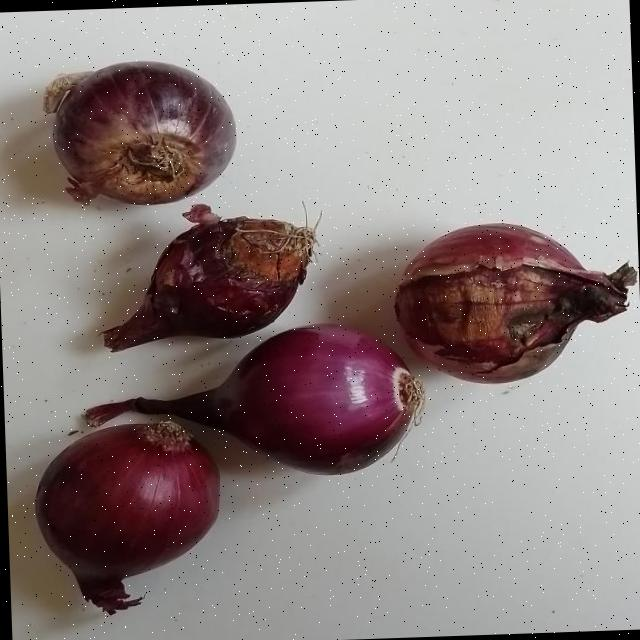Onion: (83, 324, 422, 474), (393, 222, 636, 382), (33, 419, 217, 615), (100, 203, 313, 349), (50, 60, 234, 201)
